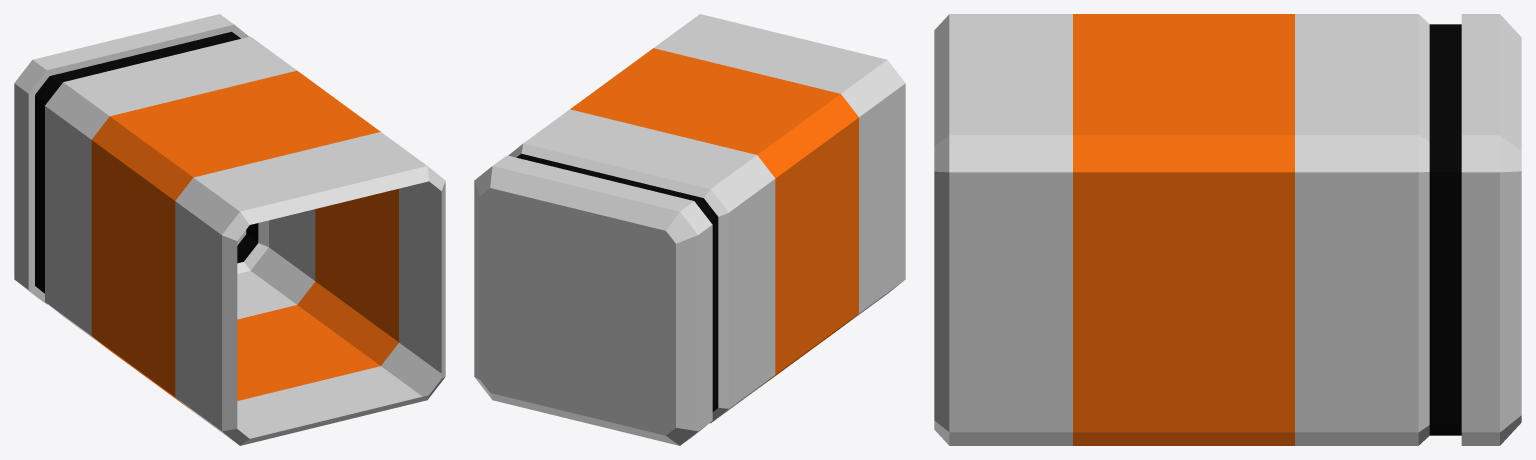
Rendered from propsMaison_pot.fbx.
The picture shows the model from 3 angles, left to right: view 1: azimuth 30°, elevation 25°; view 2: azimuth 150°, elevation 25°; view 3: azimuth 270°, elevation 25°; orthographic projection. The views are drawn at different scales.
Visible parts, largest first — view 1: pot; view 2: pot; view 3: pot.
Part boxes in pixels (box(x1,y1,x2,y2)): pot: box(14, 14, 445, 445); pot: box(474, 14, 905, 445); pot: box(934, 14, 1521, 445).
Size of the model in its own units: 64.42 by 64.42 by 110.
